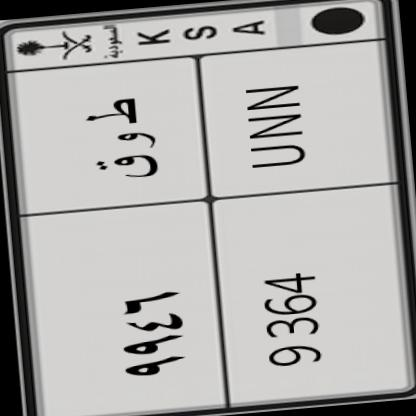english: (185, 32, 416, 416)
